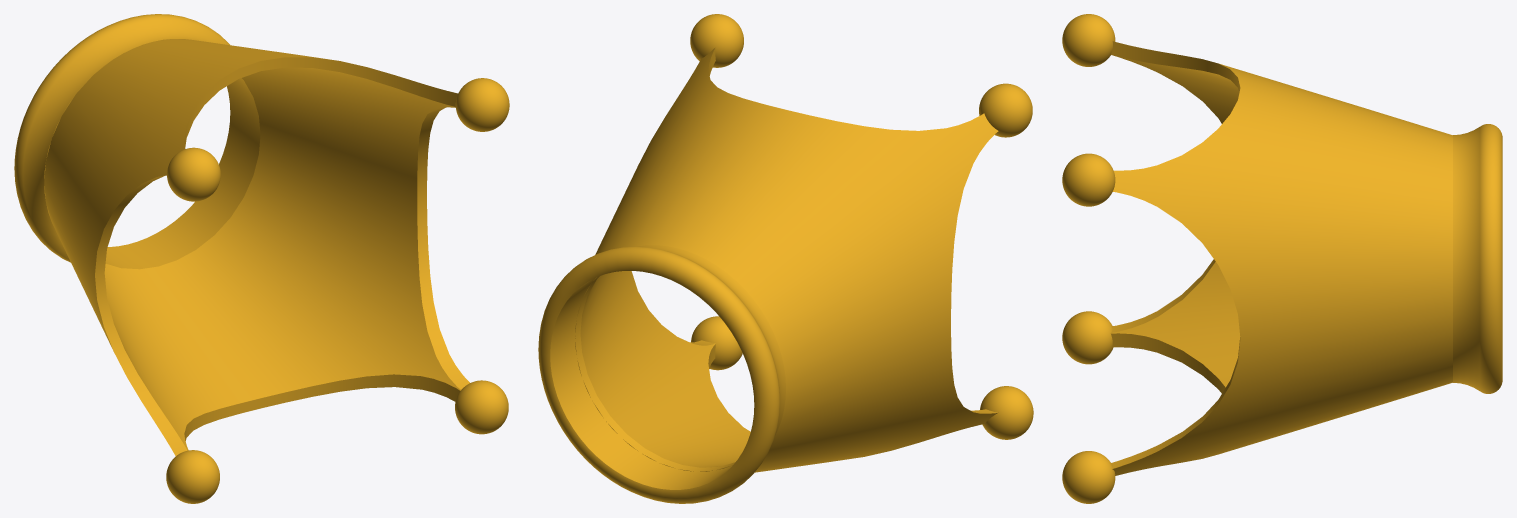
The model's file is crown.fbx.
3 renders of one model, left to right at view 1: azimuth 30°, elevation 25°; view 2: azimuth 150°, elevation 25°; view 3: azimuth 270°, elevation 25°, orthographic.
Visible parts, largest first — view 1: top, bottom, deco1, deco3, deco2, deco4; view 2: top, bottom, deco4, deco1, deco3, deco2; view 3: top, bottom, deco3, deco2, deco4, deco1.
Boxes of the visible parts, x1,y1,x2,y2 form: top: (44,39,469,455); bottom: (14,14,254,265); deco1: (166,450,219,503); deco3: (455,78,509,131); deco2: (455,380,508,434); deco4: (167,147,220,201); top: (575,47,998,472); bottom: (538,245,785,503); deco4: (979,83,1032,137); deco1: (980,386,1033,439); deco3: (690,14,743,67); deco2: (691,316,742,370); top: (1110,41,1452,475); bottom: (1453,124,1502,393); deco3: (1062,153,1115,206); deco2: (1062,451,1115,503); deco4: (1062,14,1115,66); deco1: (1062,311,1112,364).
Bounding box in the file's own units: 108 × 108 × 124.
